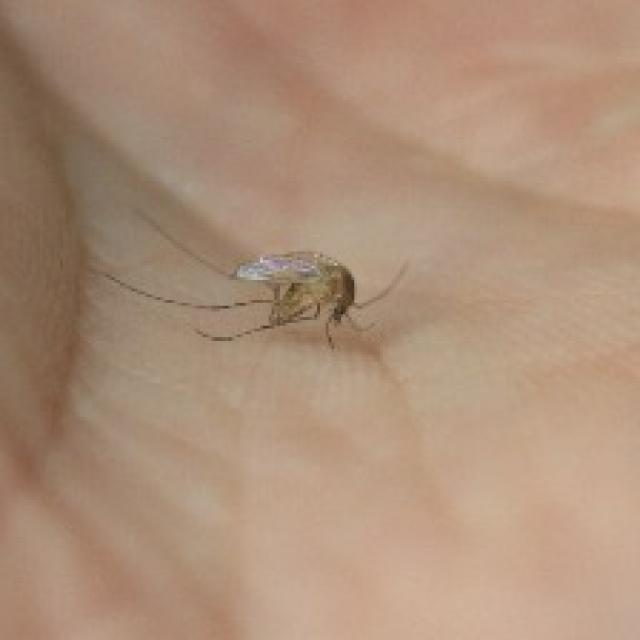culex: (77, 192, 460, 386)
